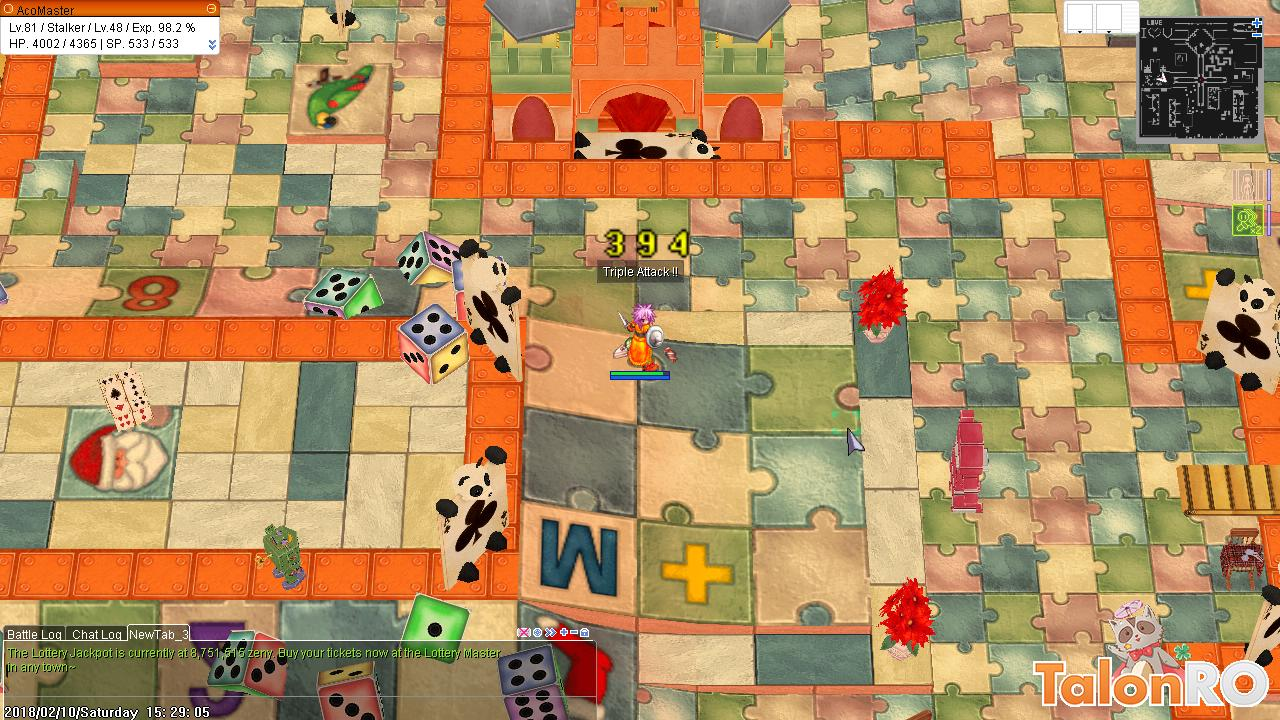loot: (607, 339, 634, 362), (663, 345, 684, 368)
